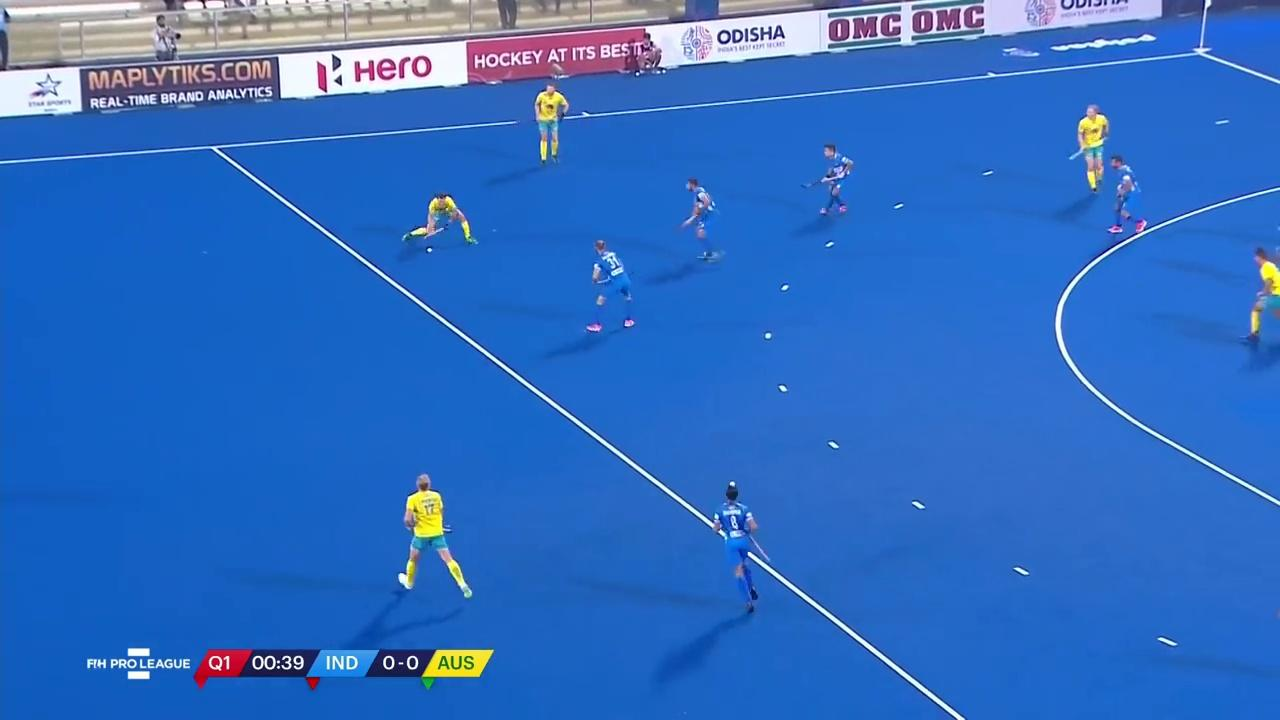ball: (421, 241, 436, 257)
